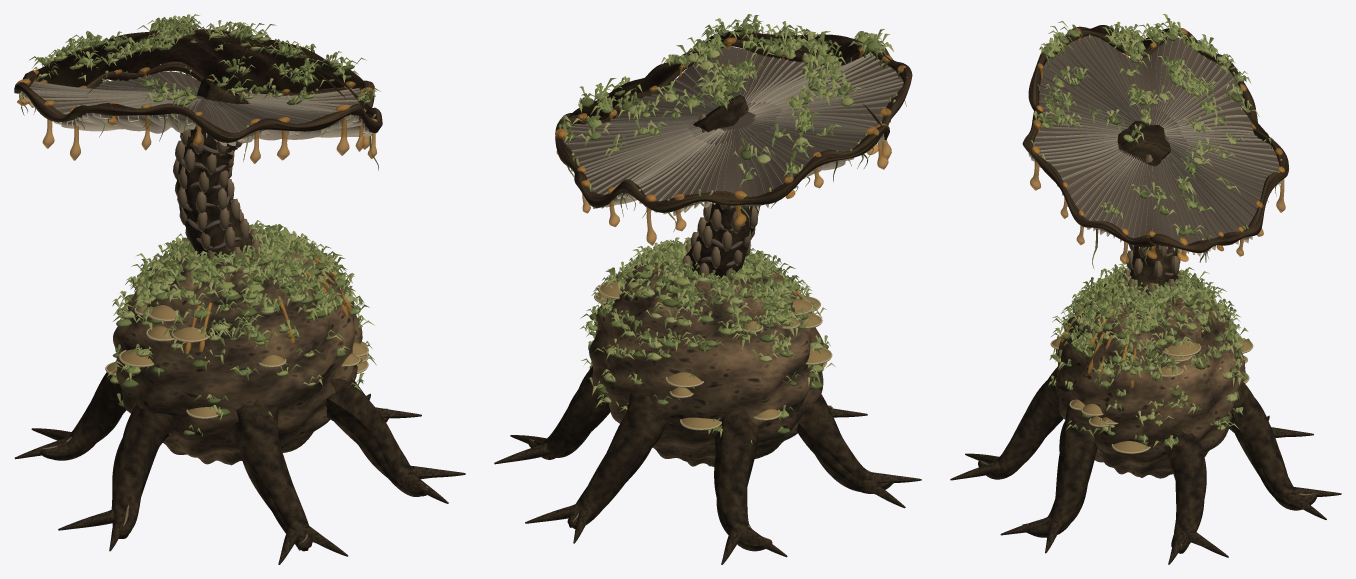
Rendered from Floatbladder.glb.
The picture shows the model from 3 angles, left to right: view 1: azimuth 30°, elevation 25°; view 2: azimuth 150°, elevation 25°; view 3: azimuth 270°, elevation 25°; orthographic projection. The views are drawn at different scales.
Parts seen in each view (by area): view 1: Swollen seed-pod hide, Drooping mushroom cap, Radial folded gills.001, Serrated moss fronds.001, Root leg 05, Rolled leathery rim, Serrated moss fronds, Serrated moss fronds.002, Root leg 06, Serrated moss fronds.003, Root leg 04, Bent living stalk (+11 smaller); view 2: Swollen seed-pod hide, Gill bed, Radial folded gills.001, Radial folded gills, Rolled leathery rim, Serrated moss fronds, Serrated moss fronds.001, Serrated moss fronds.003, Serrated moss fronds.002, Root leg 02, Root leg 03, Root leg 04 (+10 smaller); view 3: Gill bed, Swollen seed-pod hide, Radial folded gills.001, Radial folded gills, Serrated moss fronds.001, Serrated moss fronds, Serrated moss fronds.002, Rolled leathery rim, Serrated moss fronds.003, Root leg 02, Root leg 06, Root leg 01 (+10 smaller).
Part boxes in pixels (x1,y1,x2,y2): Swollen seed-pod hide: (113,241,362,465); Drooping mushroom cap: (29,28,373,111); Radial folded gills.001: (21,71,375,146); Serrated moss fronds.001: (29,16,374,436); Root leg 05: (230,397,348,564); Rolled leathery rim: (14,61,382,142); Serrated moss fronds: (33,14,376,413); Serrated moss fronds.002: (32,14,375,434); Root leg 06: (325,377,465,503); Serrated moss fronds.003: (41,17,380,432); Root leg 04: (58,403,172,551); Bent living stalk: (176,78,253,257); Swollen seed-pod hide: (589,254,823,466); Gill bed: (563,47,902,208); Radial folded gills.001: (565,47,902,215); Radial folded gills: (567,50,903,212); Rolled leathery rim: (555,40,912,212); Serrated moss fronds: (560,14,893,437); Serrated moss fronds.001: (563,14,886,431); Serrated moss fronds.003: (558,15,881,432); Serrated moss fronds.002: (579,20,889,443); Root leg 02: (525,392,666,543); Root leg 03: (714,408,787,564); Root leg 04: (796,394,921,508); Gill bed: (1029,35,1279,245); Swollen seed-pod hide: (1055,281,1245,478); Radial folded gills.001: (1031,35,1282,256); Radial folded gills: (1029,36,1279,254); Serrated moss fronds.001: (1040,18,1252,447); Serrated moss fronds: (1033,14,1251,443); Serrated moss fronds.002: (1033,21,1259,449); Rolled leathery rim: (1022,26,1288,252); Serrated moss fronds.003: (1036,21,1248,443); Root leg 02: (1228,381,1341,519); Root leg 06: (1000,401,1097,553); Root leg 01: (1164,430,1228,564).
Bounding box in the file's own units: 2.88 × 3.34 × 2.83.
Materials: 14 (3 with a texture image).
